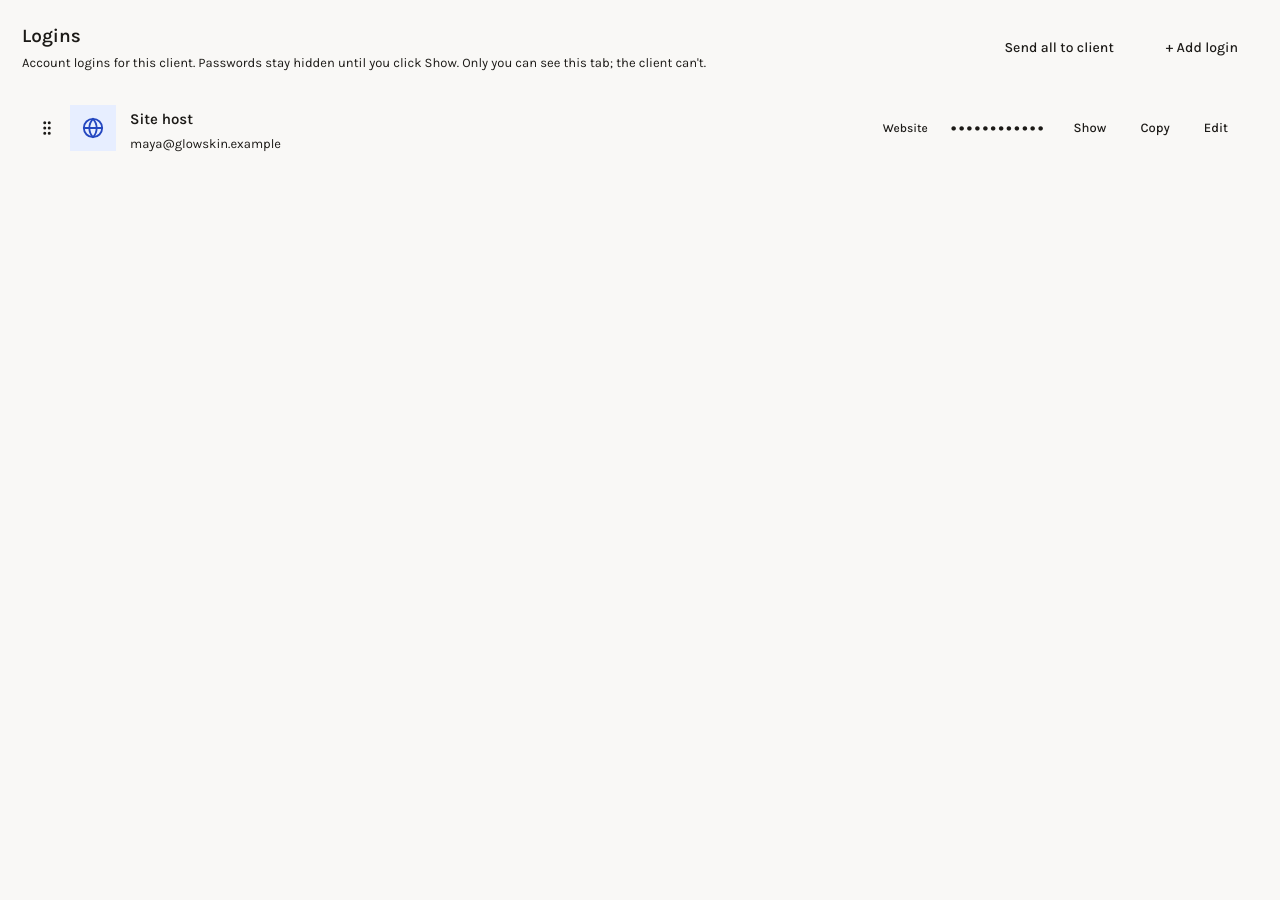
it: the admin login form's project field › opens an existing login on the project it was saved with
Click the button "Edit": (1216, 128) left=1190, top=106, right=1242, bottom=150
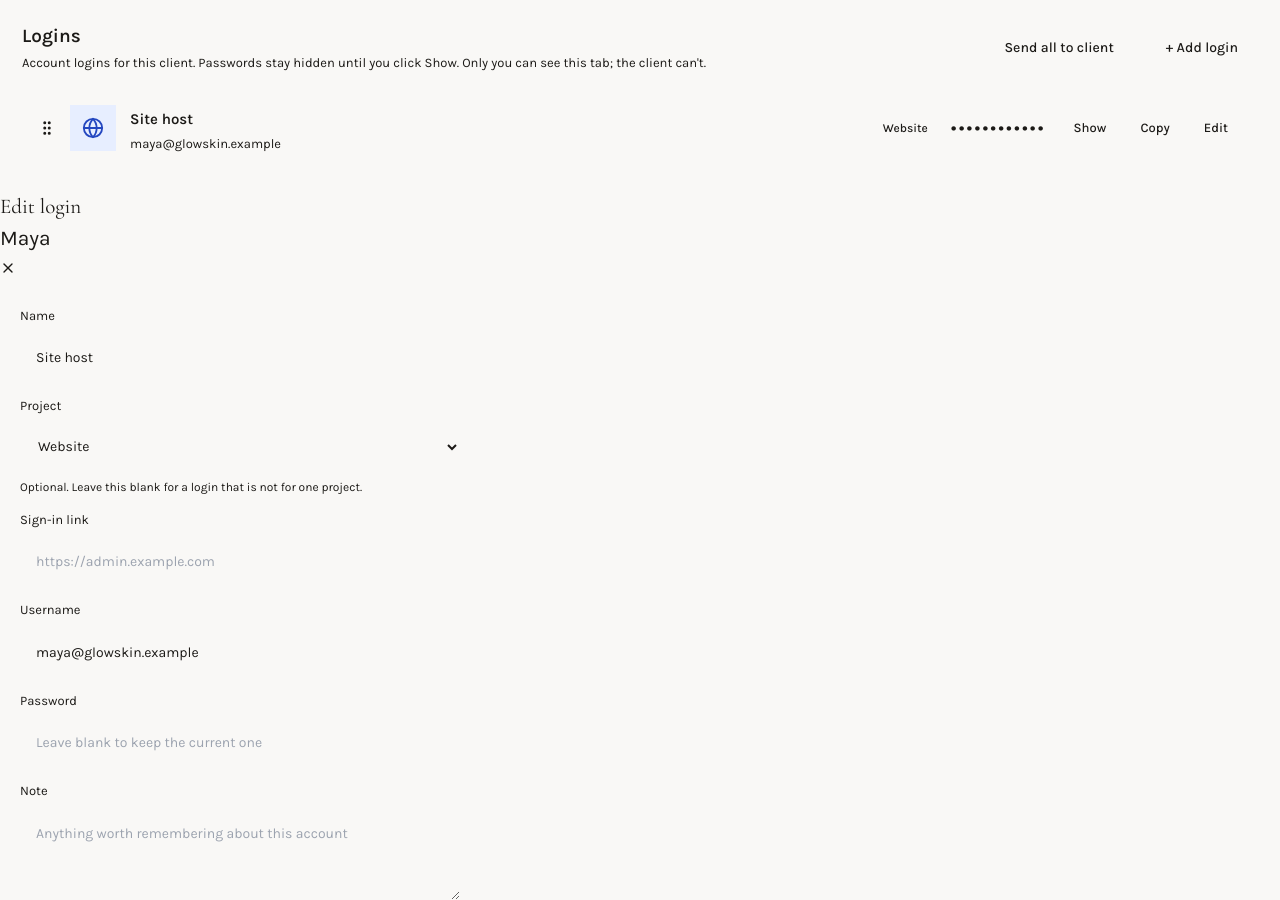
Check: the dropdown labelled "Project" shows "Website", box left=20, top=424, right=460, bottom=470
